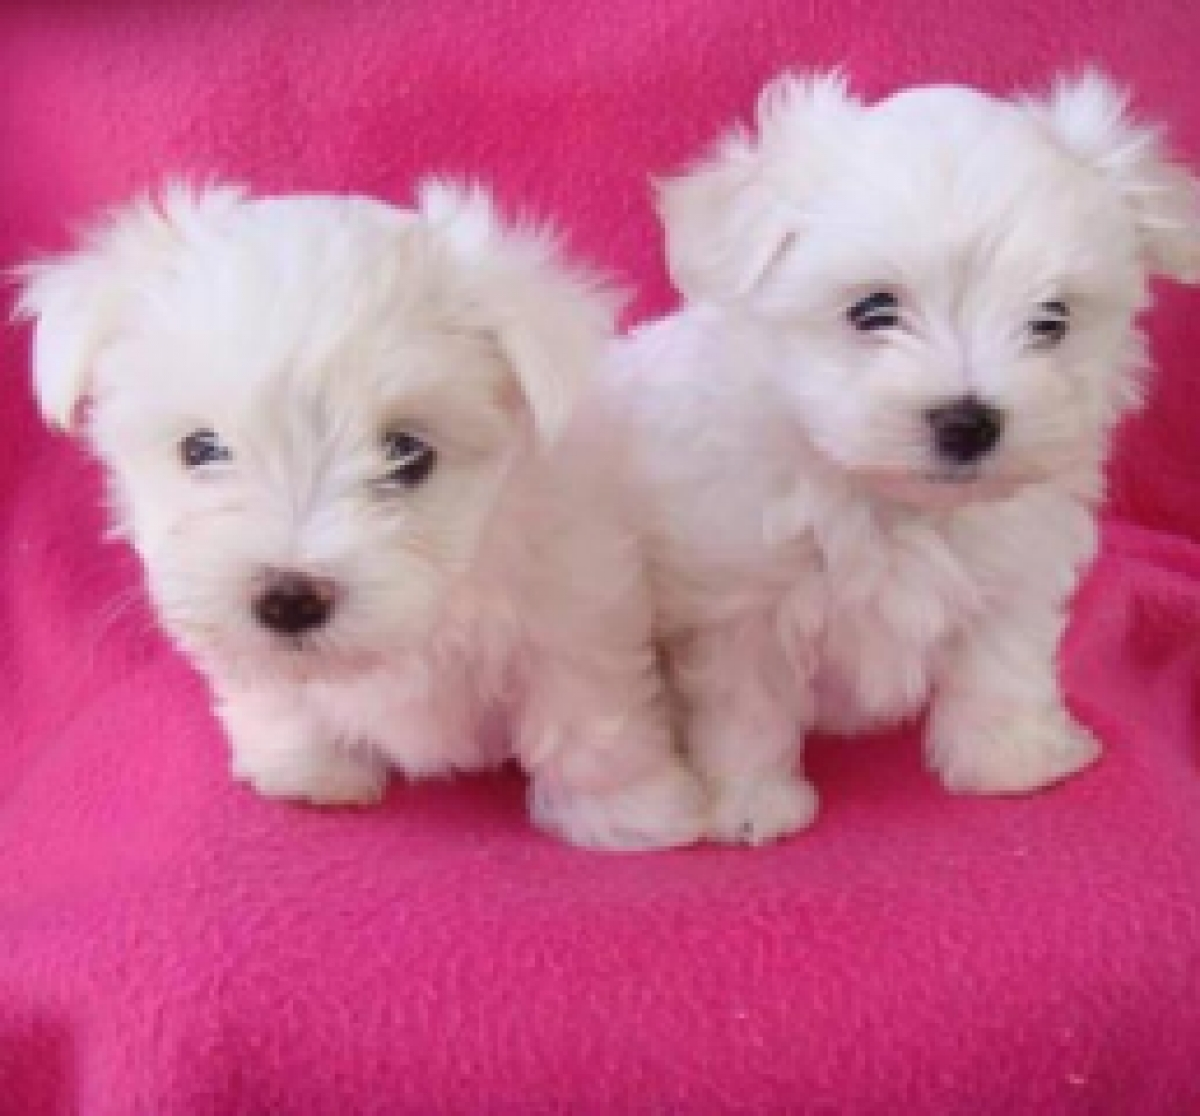dog: (1, 164, 705, 867), (590, 50, 1200, 852)
